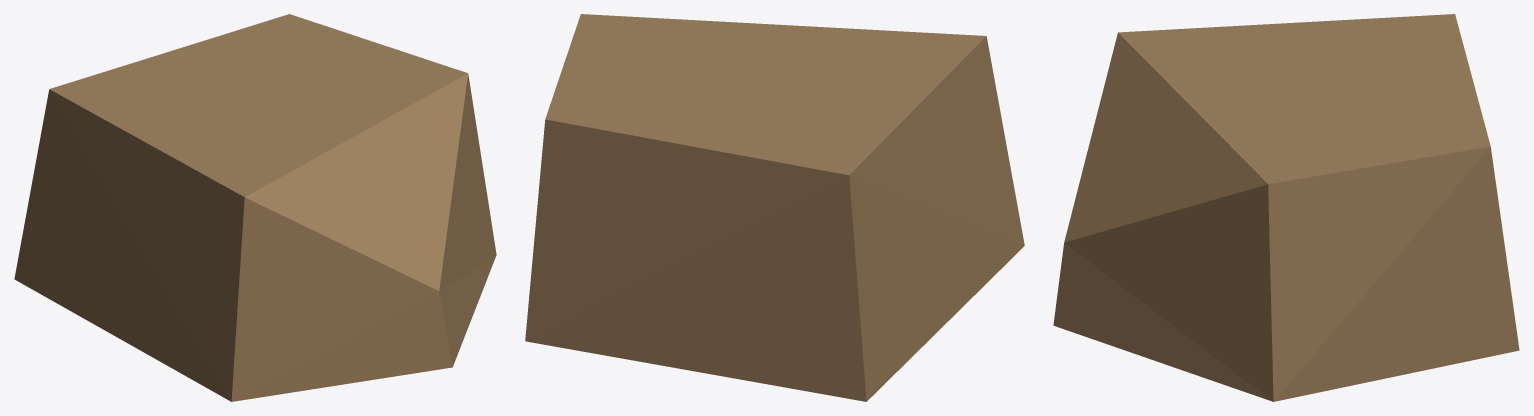
The model's file is SM_Env_Pebble_03.gltf.
3 views of the same model, side by side, from view 1: azimuth 30°, elevation 25°; view 2: azimuth 150°, elevation 25°; view 3: azimuth 270°, elevation 25° (orthographic). The views are drawn at different scales.
Visible parts, largest first — view 1: SM_Env_Pebble_03; view 2: SM_Env_Pebble_03; view 3: SM_Env_Pebble_03.
Boxes of the visible parts, x1,y1,x2,y2 form: SM_Env_Pebble_03: [14, 14, 496, 401]; SM_Env_Pebble_03: [525, 14, 1024, 401]; SM_Env_Pebble_03: [1053, 14, 1519, 401].
Size of the model in its own units: 0.0523 by 0.0247 by 0.0517.
Materials: 1 (1 with a texture image).
